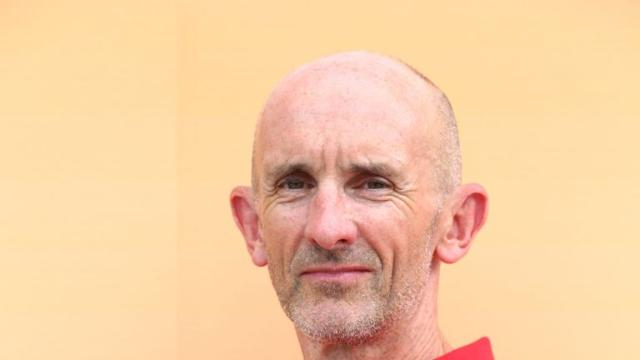crows_feet: (390, 182, 410, 204), (262, 182, 282, 202)
frown_line: (316, 148, 332, 176)
gummy_smile: (361, 232, 384, 264)
masseter: (386, 250, 400, 290)
